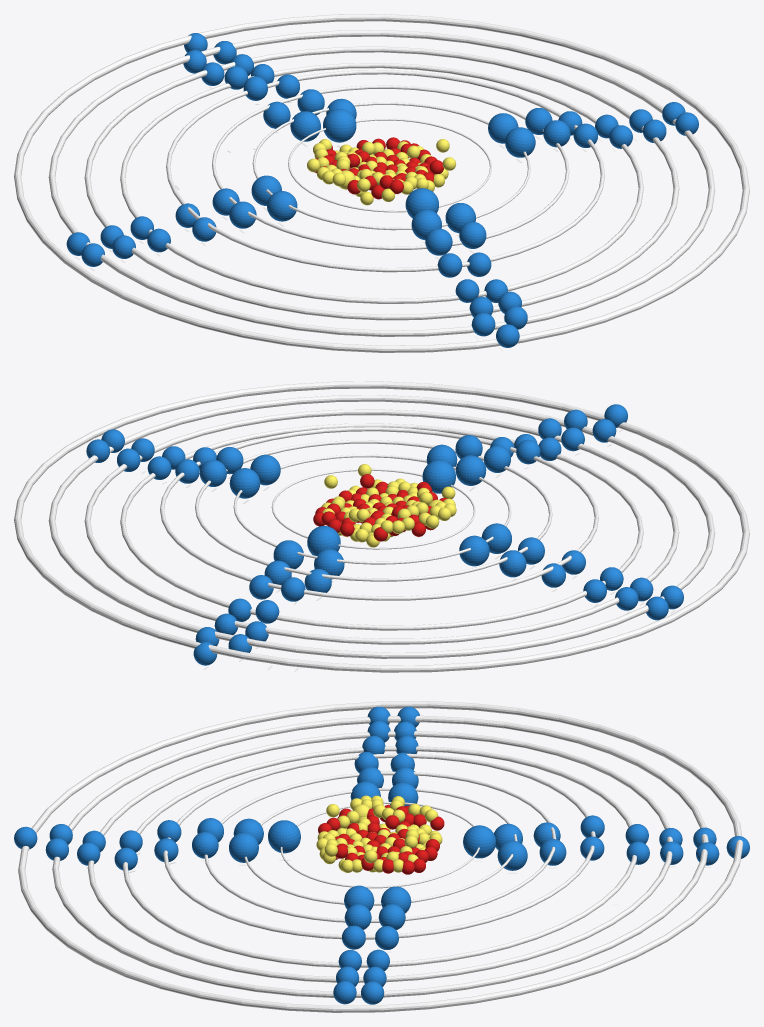
The picture shows the model from 3 angles, top to bottom: view 1: azimuth 30°, elevation 25°; view 2: azimuth 150°, elevation 25°; view 3: azimuth 270°, elevation 25°; orthographic projection.
Parts seen in each view (by area): view 1: Torus.008, Torus.007, Torus.006, Torus.005, Torus.004, Torus.003, Torus.002, Torus.001, g, g.005, g.003, g.001 (+9 smaller); view 2: Torus.008, Torus.007, Torus.006, Torus.005, Torus.004, Torus.003, Torus.002, Torus.001, g.001, g, g.006, g.004 (+13 smaller); view 3: Torus.008, Torus.007, Torus.006, Torus.005, Torus.004, Torus.003, Torus.002, g.001, g, Torus.001, g.007, g.009 (+6 smaller).
Part boxes in pixels (x1,y1,x2,y2): Torus.008: [14, 14, 749, 352]; Torus.007: [48, 30, 715, 336]; Torus.006: [84, 46, 679, 320]; Torus.005: [120, 63, 643, 303]; Torus.004: [166, 70, 604, 272]; Torus.003: [212, 85, 569, 249]; Torus.002: [252, 102, 530, 230]; Torus.001: [288, 118, 491, 212]; g: [323, 109, 356, 142]; g.005: [505, 127, 535, 157]; g.003: [267, 191, 297, 221]; g.001: [405, 188, 438, 218]; Torus.008: [14, 381, 749, 672]; Torus.007: [48, 395, 715, 658]; Torus.006: [84, 409, 679, 644]; Torus.005: [120, 423, 643, 630]; Torus.004: [160, 427, 598, 600]; Torus.003: [195, 440, 552, 581]; Torus.002: [233, 454, 511, 564]; Torus.001: [271, 468, 475, 549]; g.001: [422, 460, 455, 493]; g: [307, 526, 340, 555]; g.006: [455, 455, 486, 485]; g.004: [229, 468, 260, 498]; Torus.008: [18, 701, 743, 1012]; Torus.007: [52, 715, 708, 997]; Torus.006: [87, 731, 672, 982]; Torus.005: [122, 746, 636, 967]; Torus.004: [163, 753, 595, 939]; Torus.003: [204, 771, 556, 922]; Torus.002: [244, 788, 517, 905]; g.001: [268, 820, 300, 853]; g: [463, 825, 496, 858]; Torus.001: [280, 802, 479, 888]; g.007: [229, 832, 258, 862]; g.009: [497, 840, 527, 870].
Bounding box in the file's own units: 21.69 × 2.85 × 21.99.
